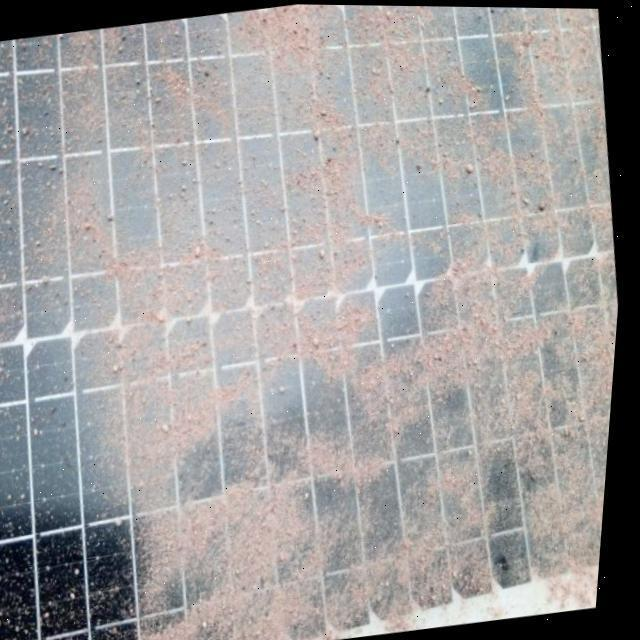Anomaly Solar Panel: (0, 0, 640, 640)
Surface Contaminant: (0, 4, 623, 640)
